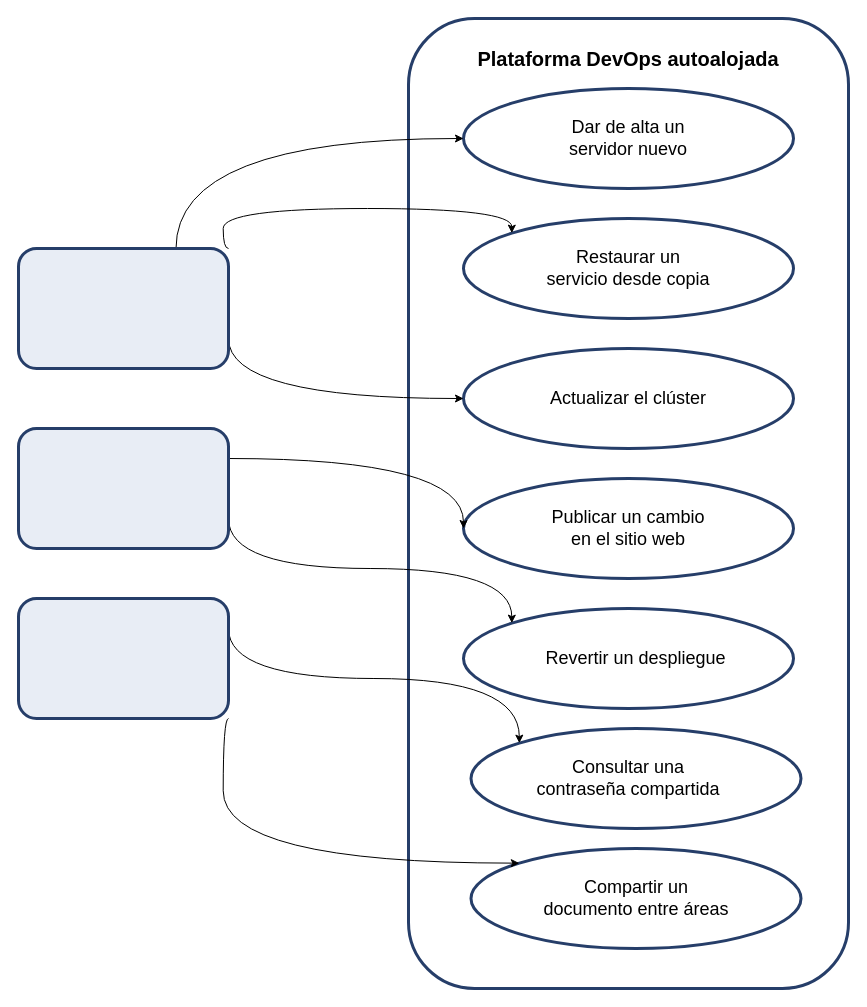
Some shapes in this 867 by 1007 pixel diagram are drawn without their labels. Each missing label, with the box of its shape:
Administrador de sistemas: (16, 246, 230, 370)
Desrrollador: (16, 426, 230, 550)
Empleado: (16, 596, 230, 720)
